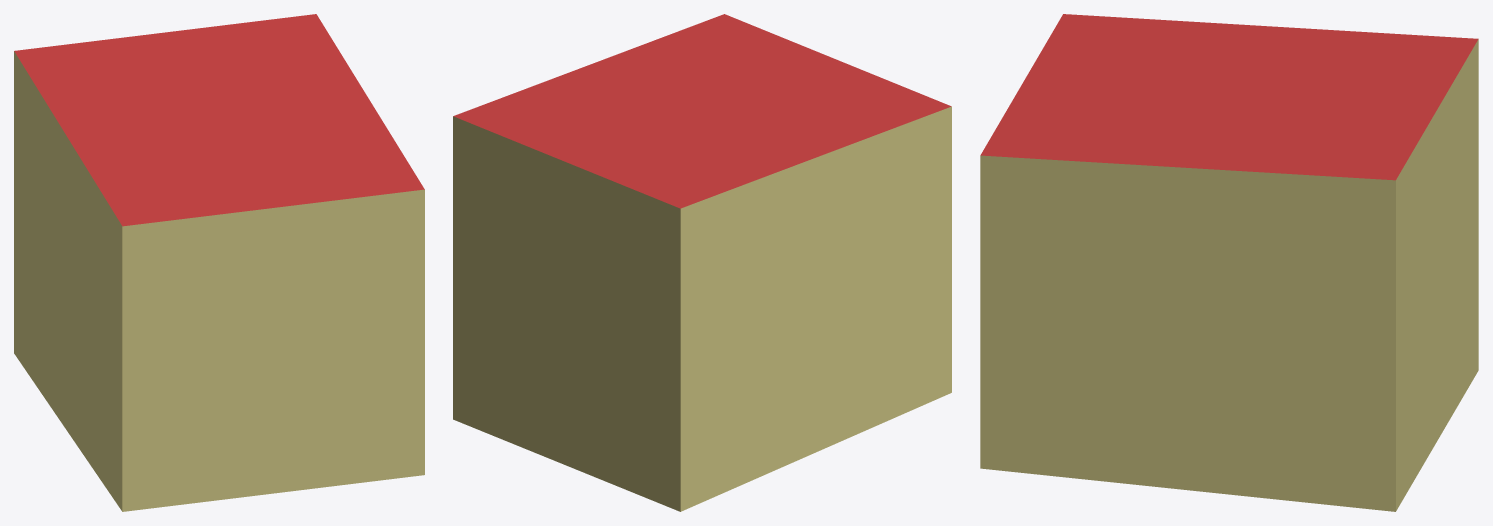
3 renders of one model, left to right at view 1: azimuth 30°, elevation 25°; view 2: azimuth 150°, elevation 25°; view 3: azimuth 270°, elevation 25°, orthographic. The views are drawn at different scales.
Bounding box in the file's own units: 6.38 × 7.26 × 5.33.
